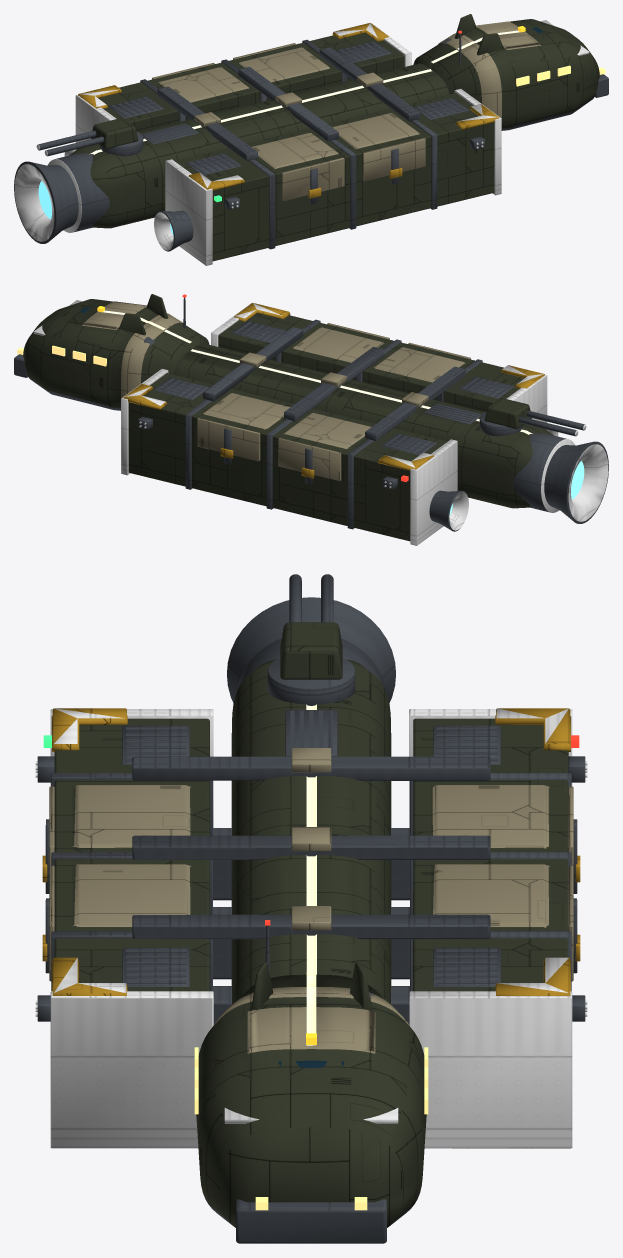
The model's file is mule_production_v1_lod1.glb.
3 renders of one model, top to bottom at view 1: azimuth 30°, elevation 25°; view 2: azimuth 150°, elevation 25°; view 3: azimuth 270°, elevation 25°, orthographic. The views are drawn at different scales.
Parts seen in each view (by area): view 1: LOD0_MOTION_HULL_CORE_Hull, LOD0_MOTION_HULL_CORE_Mechanical, LOD0_MOTION_HULL_CORE_Armor, LOD0_MOTION_HULL_CORE_MechanicalDark, LOD0_MOTION_HULL_CORE_Warning, LOD0_MOTION_HULL_CORE_HOOK_SECONDARY_TURRET_Mechanical, LOD0_MOTION_HULL_CORE_HOOK_SECONDARY_TURRET_Hull, LOD0_MOTION_HULL_CORE_Lights_Cyan_cream, LOD0_MOTION_HULL_CORE_Lights_Warm, LOD0_MOTION_HULL_CORE_HOOK_DRIVE_CORE; view 2: LOD0_MOTION_HULL_CORE_Hull, LOD0_MOTION_HULL_CORE_Mechanical, LOD0_MOTION_HULL_CORE_Armor, LOD0_MOTION_HULL_CORE_MechanicalDark, LOD0_MOTION_HULL_CORE_Warning, LOD0_MOTION_HULL_CORE_HOOK_SECONDARY_TURRET_Mechanical, LOD0_MOTION_HULL_CORE_HOOK_SECONDARY_TURRET_Hull, LOD0_MOTION_HULL_CORE_Lights_Cyan_cream, LOD0_MOTION_HULL_CORE_Lights_Warm, LOD0_MOTION_HULL_CORE_HOOK_DRIVE_CORE; view 3: LOD0_MOTION_HULL_CORE_Hull, LOD0_MOTION_HULL_CORE_Mechanical, LOD0_MOTION_HULL_CORE_MechanicalDark, LOD0_MOTION_HULL_CORE_Armor, LOD0_MOTION_HULL_CORE_HOOK_ARMOR_BUMPER_Mechanical, LOD0_MOTION_HULL_CORE_Warning, LOD0_MOTION_HULL_CORE_HOOK_SECONDARY_TURRET_Mechanical, LOD0_MOTION_HULL_CORE_HOOK_SECONDARY_TURRET_Hull, LOD0_MOTION_HULL_CORE_Lights_Cyan_cream, LOD0_MOTION_HULL_CORE_Lights_Warm.
Boxes of the visible parts, x1,y1,x2,y2 form: LOD0_MOTION_HULL_CORE_Hull: [69, 14, 599, 261]; LOD0_MOTION_HULL_CORE_Mechanical: [14, 39, 593, 251]; LOD0_MOTION_HULL_CORE_Armor: [152, 21, 540, 201]; LOD0_MOTION_HULL_CORE_MechanicalDark: [14, 20, 589, 265]; LOD0_MOTION_HULL_CORE_Warning: [78, 23, 499, 198]; LOD0_MOTION_HULL_CORE_HOOK_SECONDARY_TURRET_Mechanical: [38, 130, 143, 156]; LOD0_MOTION_HULL_CORE_HOOK_SECONDARY_TURRET_Hull: [91, 118, 138, 149]; LOD0_MOTION_HULL_CORE_Lights_Cyan_cream: [89, 30, 519, 154]; LOD0_MOTION_HULL_CORE_Lights_Warm: [516, 65, 605, 86]; LOD0_MOTION_HULL_CORE_HOOK_DRIVE_CORE: [38, 181, 173, 235]; LOD0_MOTION_HULL_CORE_Hull: [23, 294, 553, 541]; LOD0_MOTION_HULL_CORE_Mechanical: [29, 319, 608, 531]; LOD0_MOTION_HULL_CORE_Armor: [82, 301, 470, 481]; LOD0_MOTION_HULL_CORE_MechanicalDark: [33, 300, 608, 545]; LOD0_MOTION_HULL_CORE_Warning: [123, 303, 544, 478]; LOD0_MOTION_HULL_CORE_HOOK_SECONDARY_TURRET_Mechanical: [479, 410, 584, 436]; LOD0_MOTION_HULL_CORE_HOOK_SECONDARY_TURRET_Hull: [484, 398, 531, 429]; LOD0_MOTION_HULL_CORE_Lights_Cyan_cream: [103, 310, 532, 434]; LOD0_MOTION_HULL_CORE_Lights_Warm: [17, 345, 106, 366]; LOD0_MOTION_HULL_CORE_HOOK_DRIVE_CORE: [449, 460, 584, 515]; LOD0_MOTION_HULL_CORE_Hull: [54, 659, 568, 1227]; LOD0_MOTION_HULL_CORE_Mechanical: [37, 597, 585, 1227]; LOD0_MOTION_HULL_CORE_MechanicalDark: [35, 708, 587, 1148]; LOD0_MOTION_HULL_CORE_Armor: [49, 748, 573, 1053]; LOD0_MOTION_HULL_CORE_HOOK_ARMOR_BUMPER_Mechanical: [236, 1199, 386, 1243]; LOD0_MOTION_HULL_CORE_Warning: [42, 708, 580, 995]; LOD0_MOTION_HULL_CORE_HOOK_SECONDARY_TURRET_Mechanical: [267, 574, 355, 705]; LOD0_MOTION_HULL_CORE_HOOK_SECONDARY_TURRET_Hull: [280, 622, 342, 679]; LOD0_MOTION_HULL_CORE_Lights_Cyan_cream: [306, 704, 316, 1045]; LOD0_MOTION_HULL_CORE_Lights_Warm: [194, 1047, 428, 1210].
Size of what is drawn, in the model's own units: 16.15 by 3.32 by 6.93.
Materials: 14 (6 with a texture image).
